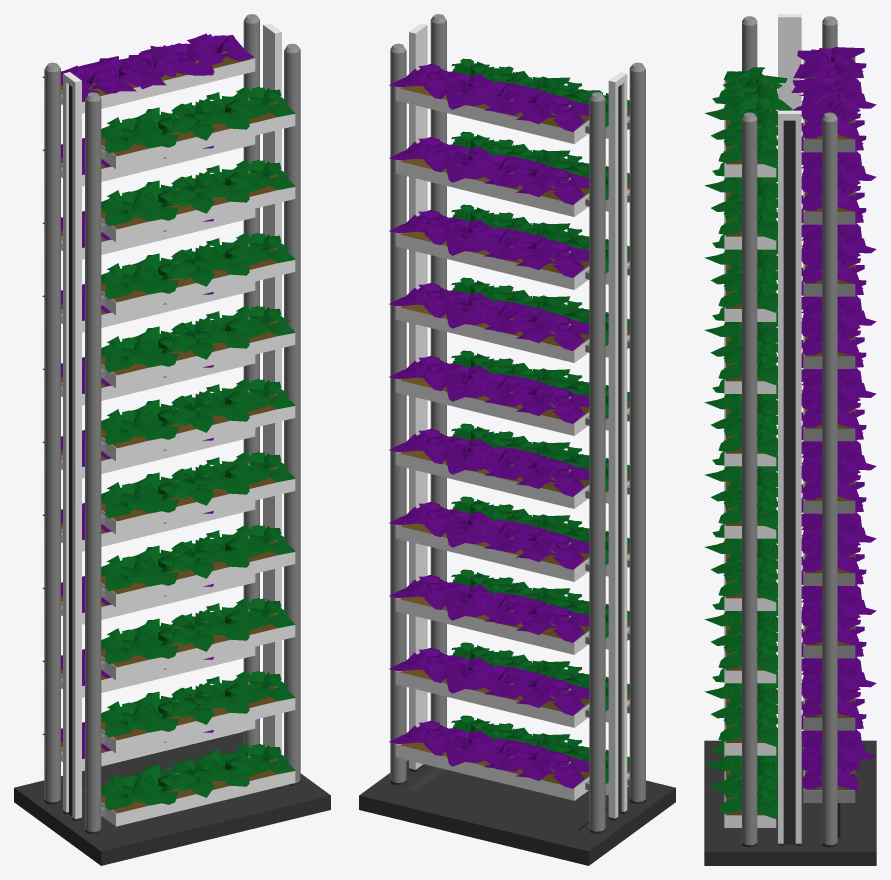
The model's file is vertical_farms.fbx.
3 views of the same model, side by side, from view 1: azimuth 30°, elevation 25°; view 2: azimuth 150°, elevation 25°; view 3: azimuth 270°, elevation 25° (orthographic).
Visible parts, largest first — view 1: Farm.005, Farm.001, Farm.002; view 2: Farm.005, Farm.001, Farm.002; view 3: Farm.001, Farm.005, Farm.002.
Boxes of the visible parts, x1,y1,x2,y2 form: Farm.005: (44, 14, 300, 831); Farm.001: (42, 33, 295, 810); Farm.002: (14, 731, 330, 865); Farm.005: (390, 14, 645, 831); Farm.001: (389, 58, 629, 788); Farm.002: (359, 760, 675, 865); Farm.001: (704, 47, 876, 818); Farm.005: (724, 14, 855, 844); Farm.002: (704, 740, 876, 865).
Bounding box in the file's own units: 1961 × 6146 × 1289.
